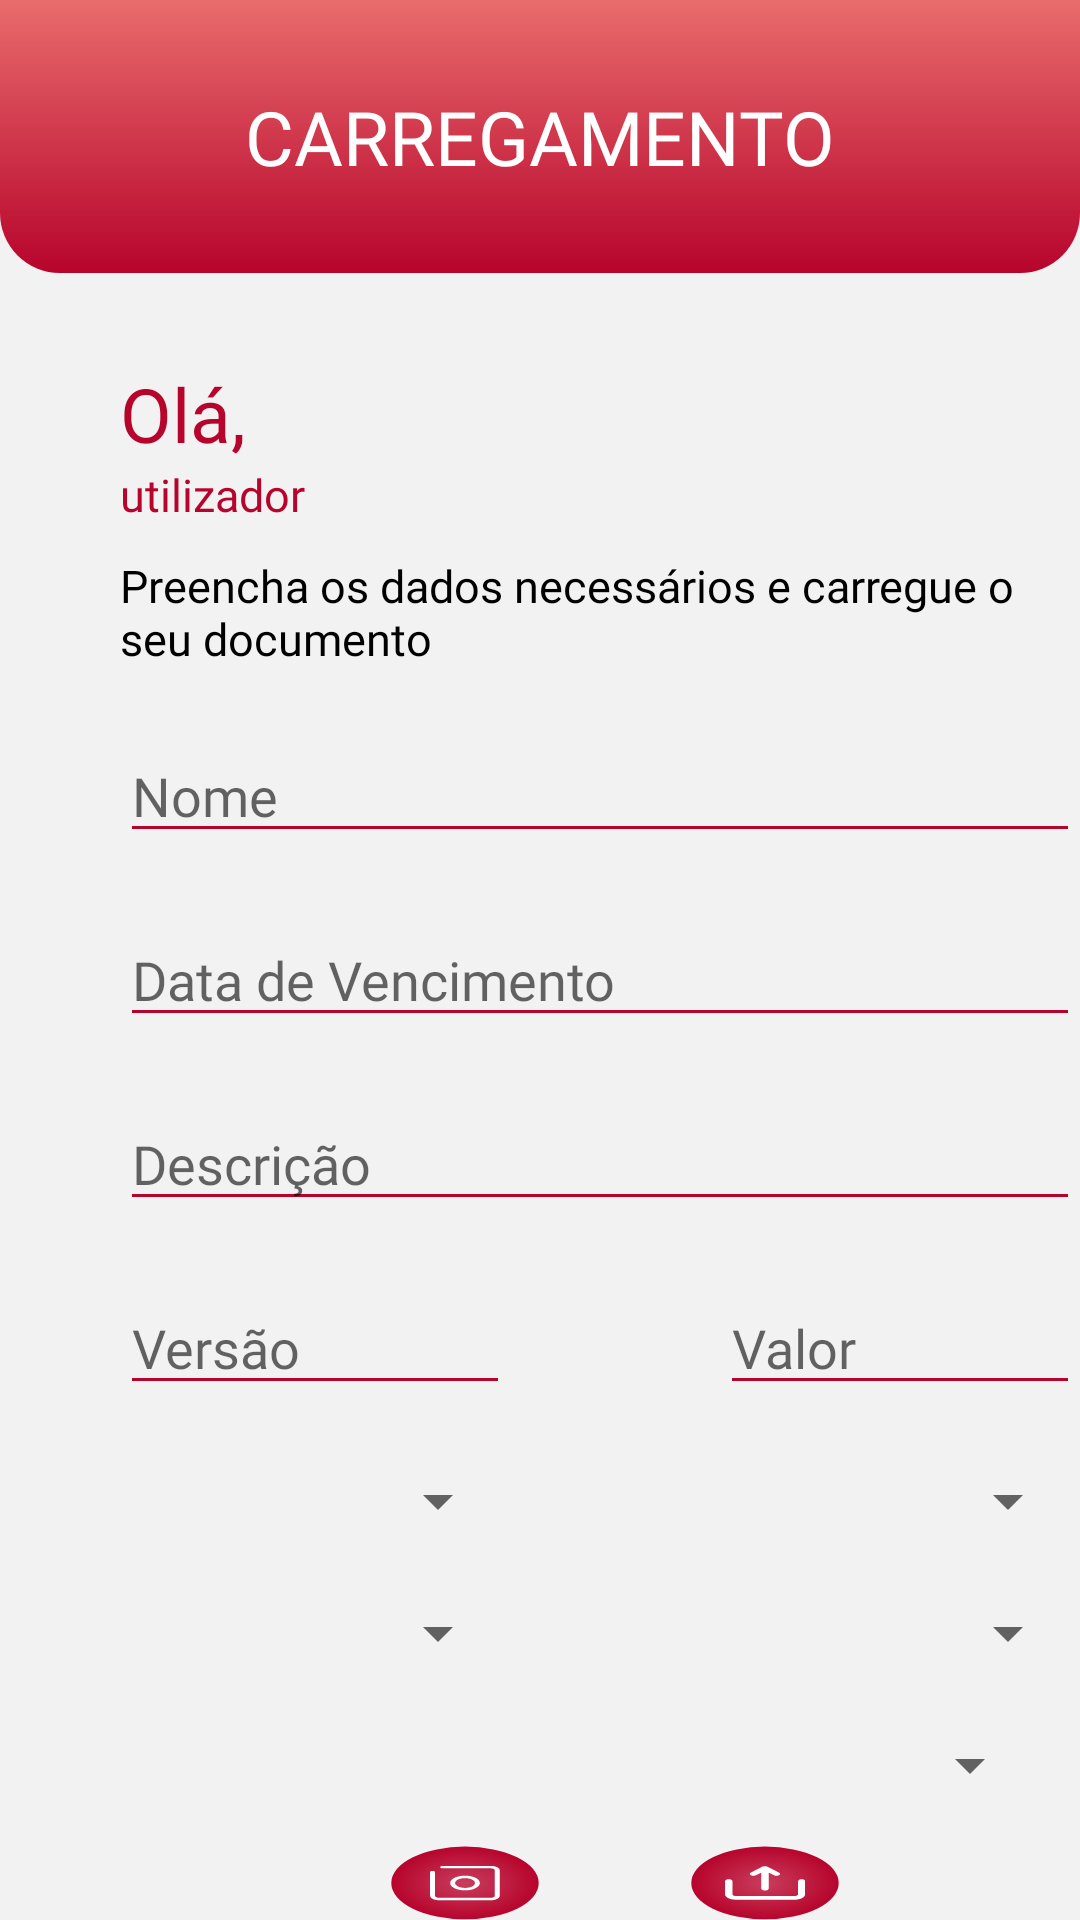

Icon bounding boxes for this 1080px x 1920px phone screenshot, format (x1, y1, x2, y2):
opencamara: (391, 1846, 539, 1920)
openfiles: (691, 1846, 839, 1920)
